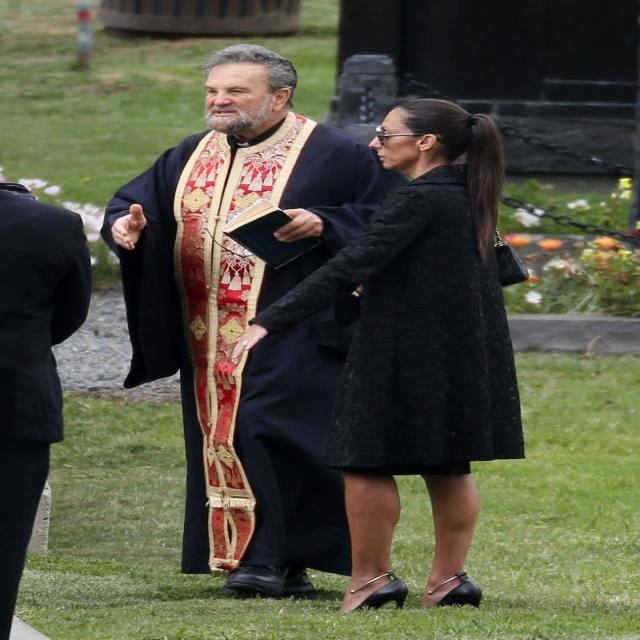body: (90, 39, 427, 606), (222, 94, 538, 619), (0, 179, 94, 639)
